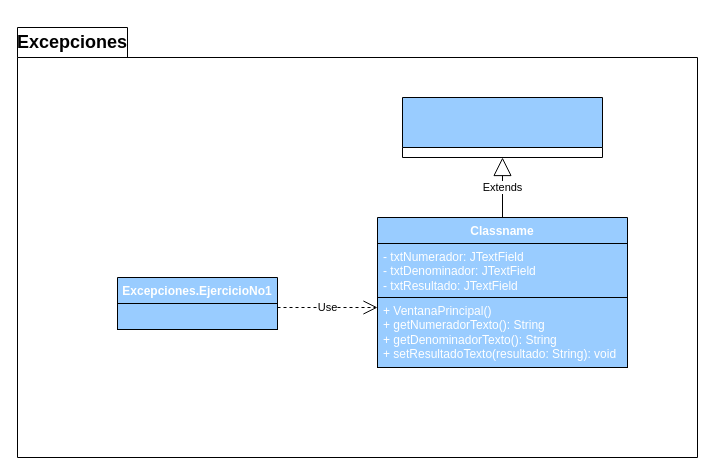
The diagram is 715 pixels wide and 475 high, and some of its shapes have lost their labels. The shapes that lost their labels are listed below. From the top down, each one's box as (x1, y1, x2, y2) in pixels, then its label:
(402, 96, 602, 158): javax.swing.JPanel <<System Class>>
(116, 302, 278, 330): + main(args: String[]): void
